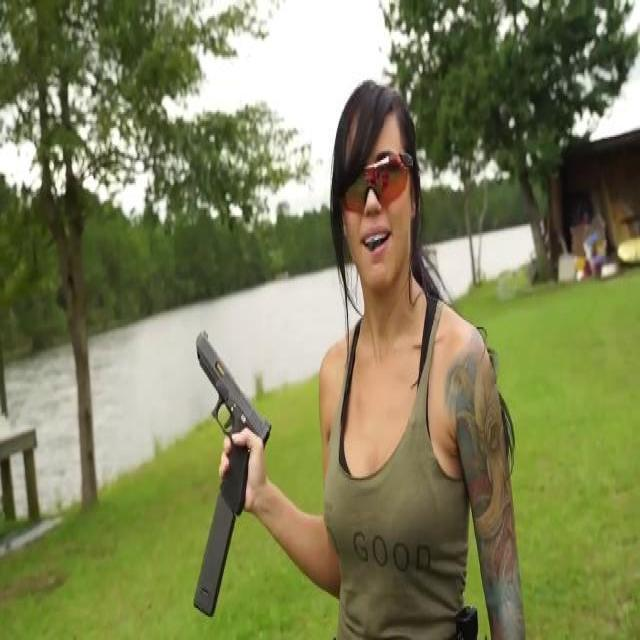pistol: (176, 323, 284, 616)
